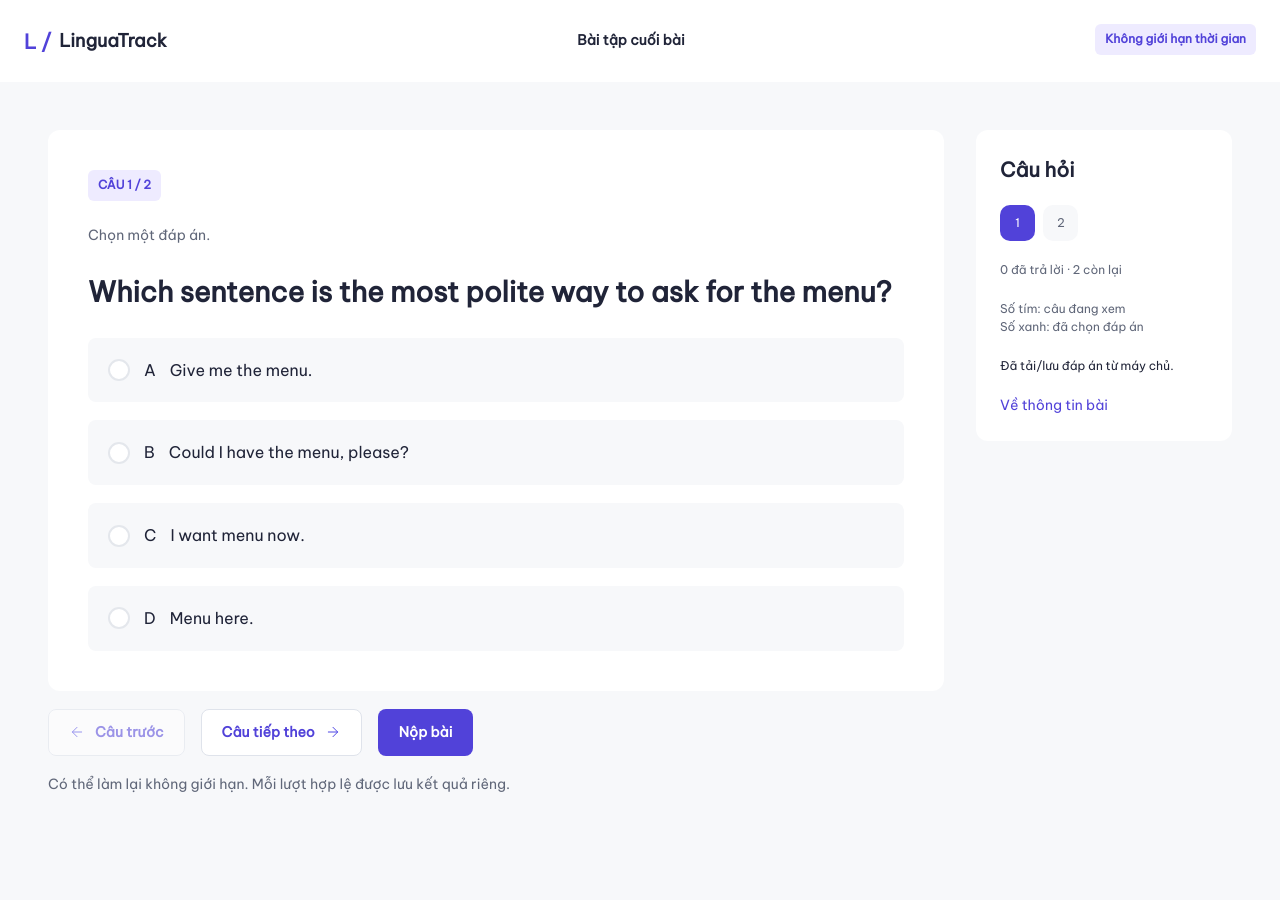
does not POST submit when the latest answer write fails
Check: the heading "Which sentence is the most polite way to ask for the menu?" is shown, box [88,270,904,314]
Click the button "Nộp bài".
click(426, 732)  # box [378,709,473,756]
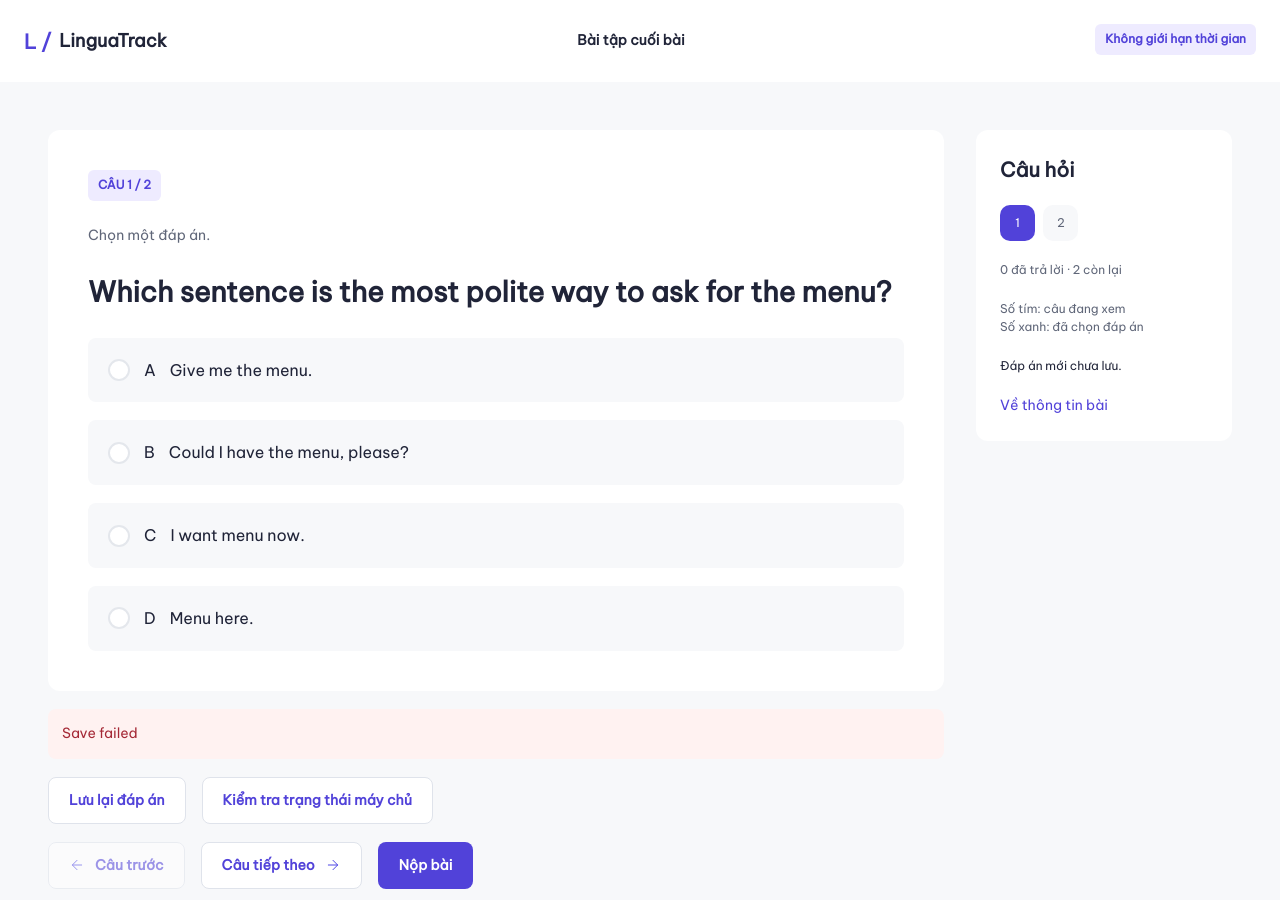
Check: the text "Save failed" is shown, box [62,724,138,742]
